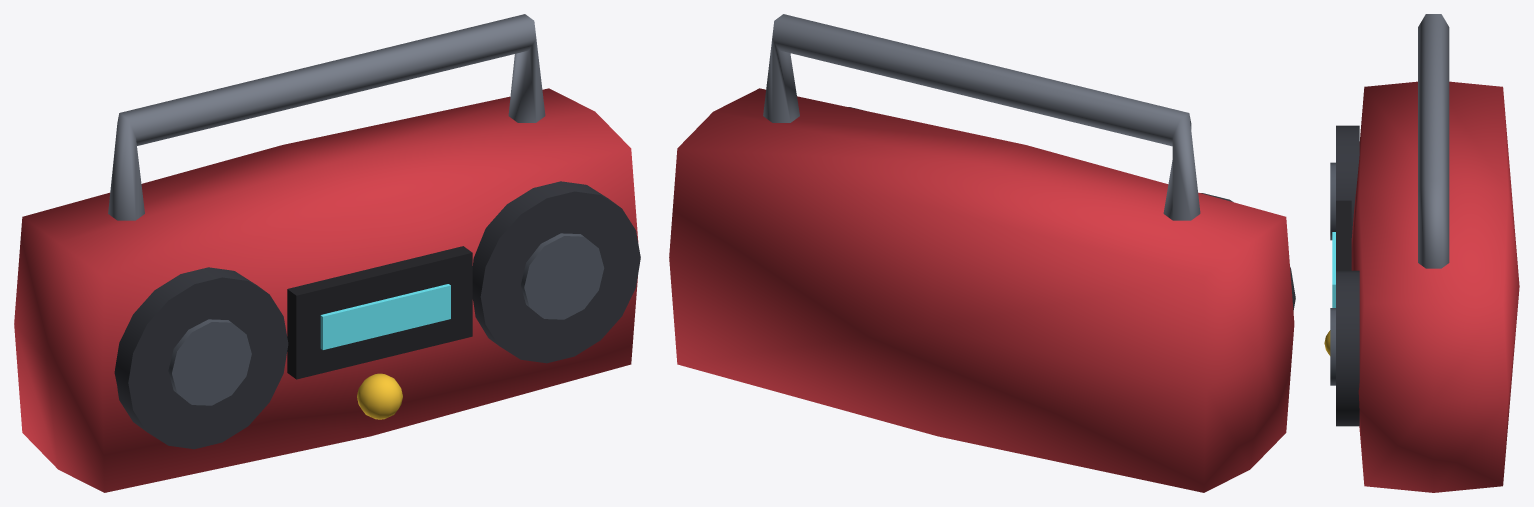
The model's file is music_player.glb.
3 views of the same model, side by side, from view 1: azimuth 30°, elevation 25°; view 2: azimuth 150°, elevation 25°; view 3: azimuth 270°, elevation 25° (orthographic). The views are drawn at different scales.
Parts seen in each view (by area): view 1: root; view 2: root; view 3: root.
Part boxes in pixels (bbox=[...]): root: bbox=[14, 14, 640, 492]; root: bbox=[669, 14, 1295, 492]; root: bbox=[1324, 14, 1519, 492].
Size of the model in its own units: 0.7 by 0.417 by 0.25.
